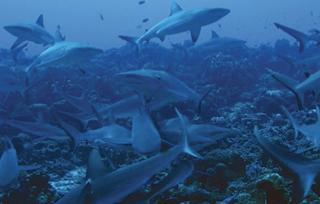Shark -Selachimorpha-: (117, 0, 231, 58), (251, 122, 320, 204), (113, 63, 214, 114), (103, 103, 176, 154), (21, 28, 106, 71), (0, 12, 64, 49), (0, 107, 70, 140), (0, 133, 40, 184)
